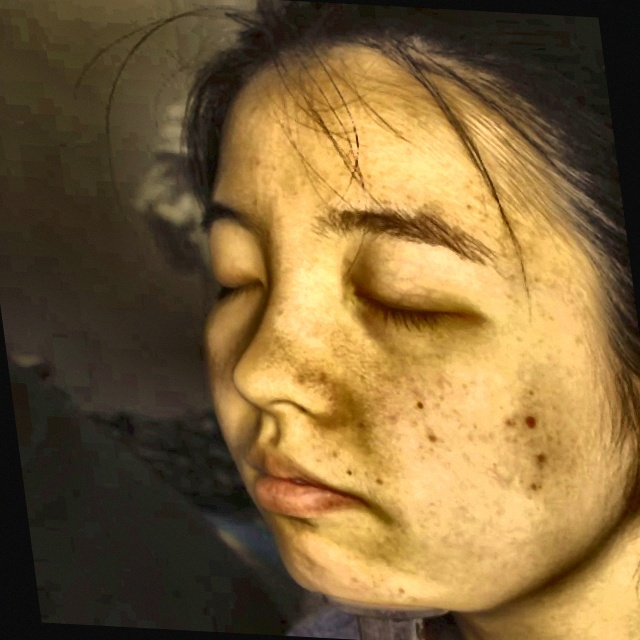comedone: (510, 411, 544, 436)
